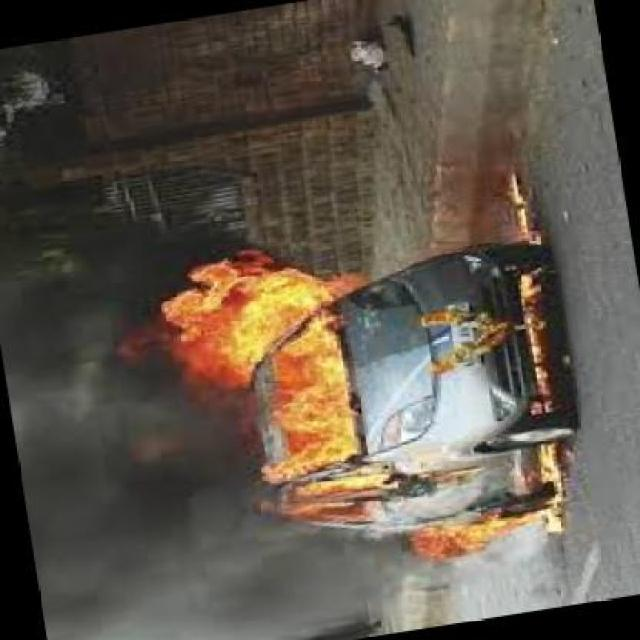Fire: (150, 250, 340, 382), (228, 380, 380, 522), (403, 510, 574, 562)
Smoke: (15, 387, 221, 640), (0, 62, 140, 386)
